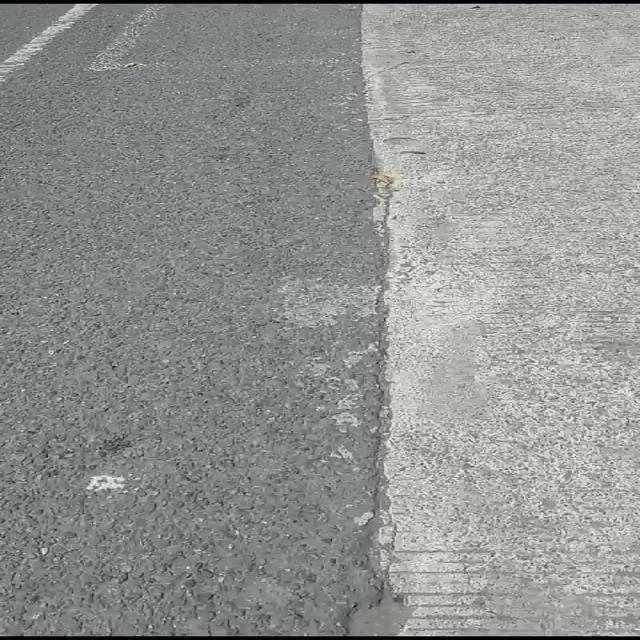Sambungan: (347, 5, 640, 640)
